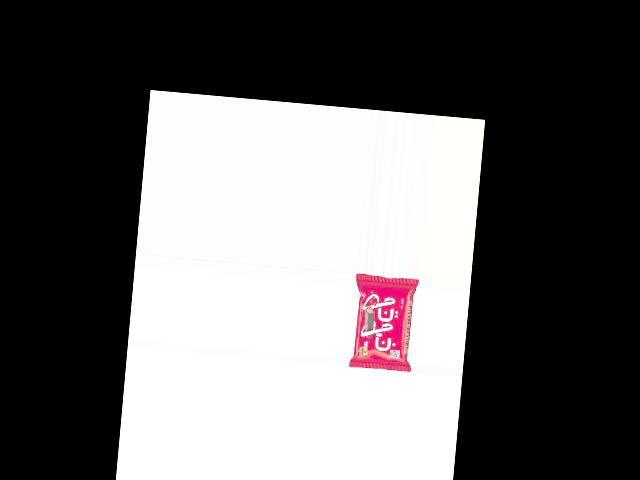chocolate: (348, 274, 420, 372)
